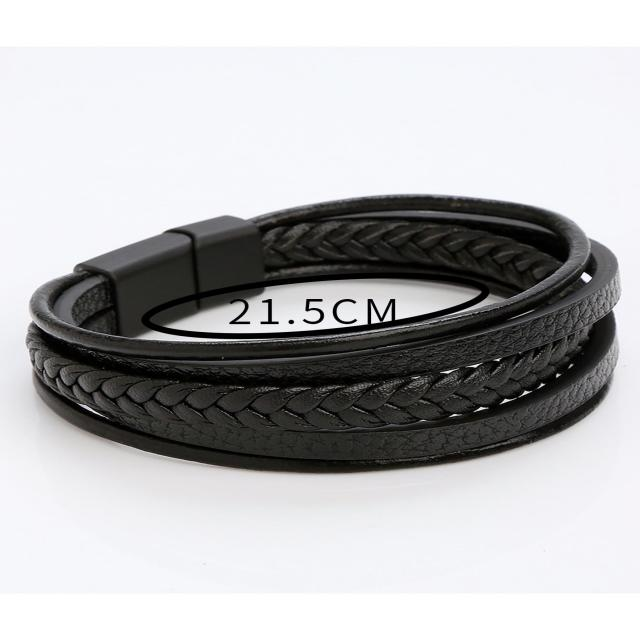bracelet: (0, 148, 640, 510)
